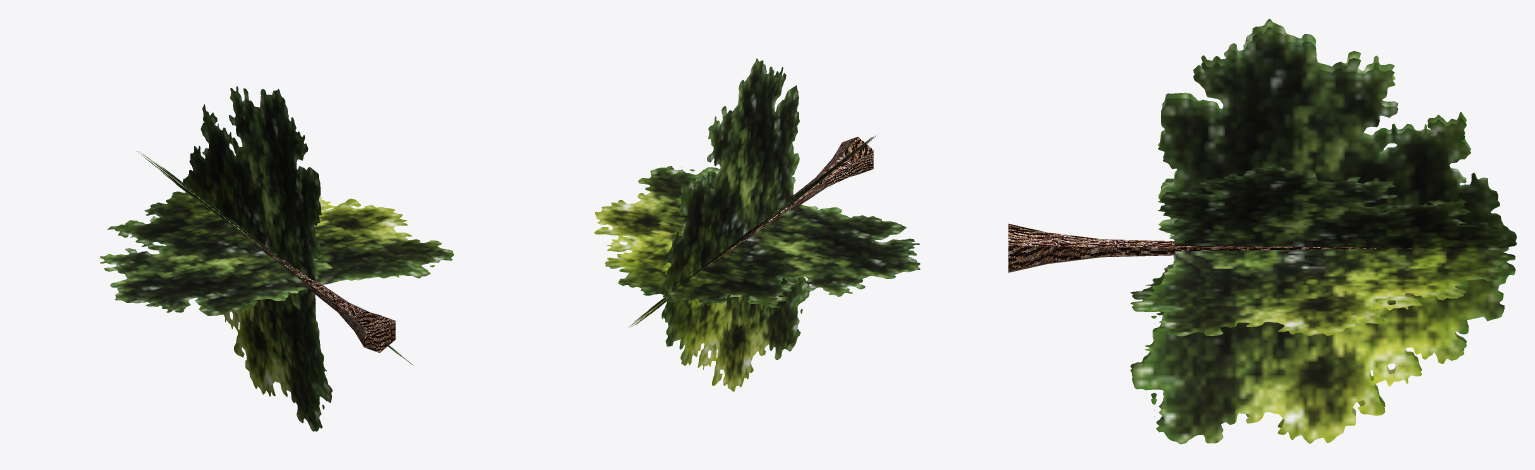
Rendered from Arbol2.fbx.
The picture shows the model from 3 angles, left to right: view 1: azimuth 30°, elevation 25°; view 2: azimuth 150°, elevation 25°; view 3: azimuth 270°, elevation 25°; orthographic projection. The views are drawn at different scales.
Visible parts, largest first — view 1: Cylinder; view 2: Cylinder; view 3: Cylinder.
Part boxes in pixels (x1,y1,x2,y2): Cylinder: (100, 86, 453, 431); Cylinder: (594, 58, 920, 391); Cylinder: (1008, 19, 1516, 444).
Size of the model in its own units: 8.03 by 8.75 by 8.03.
2 materials, 2 textured.
